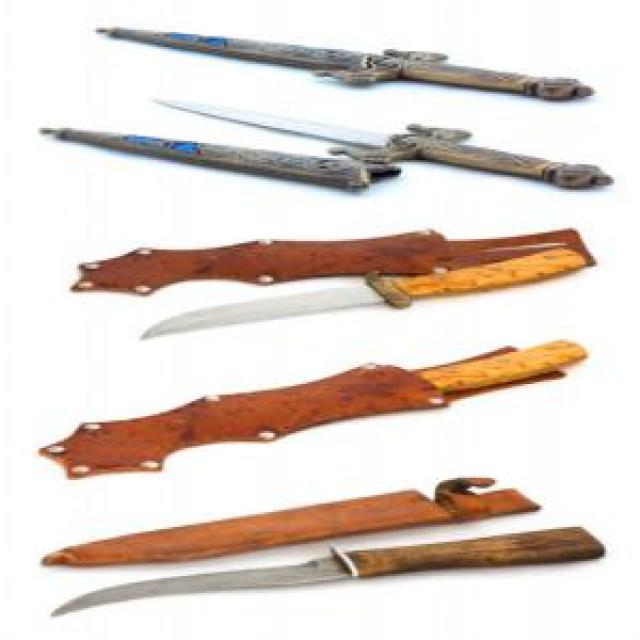knife: (38, 518, 606, 621), (141, 247, 592, 365), (98, 22, 607, 118), (147, 98, 626, 194)
